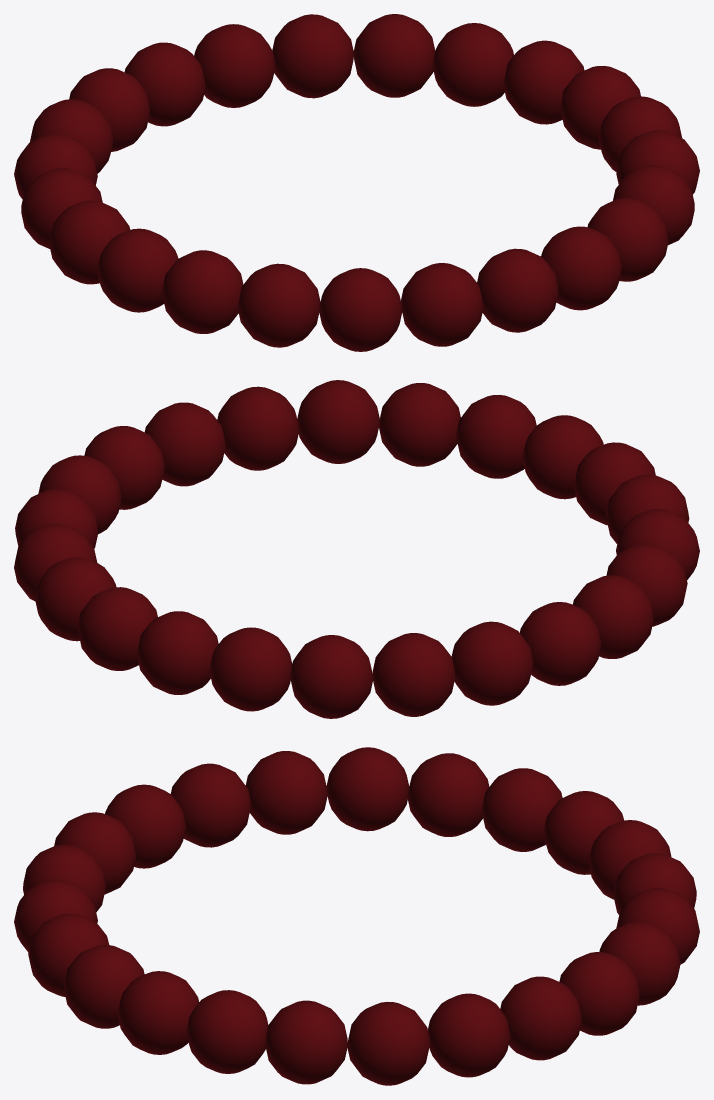
3 views of the same model, one above another, from view 1: azimuth 30°, elevation 25°; view 2: azimuth 150°, elevation 25°; view 3: azimuth 270°, elevation 25° (orthographic).
Visible parts, largest first — view 1: Sphere_6; view 2: Sphere_6; view 3: Sphere_6.
Boxes of the visible parts, left/top/right/bottom form: Sphere_6: left=14, top=14, right=699, bottom=351; Sphere_6: left=14, top=380, right=699, bottom=718; Sphere_6: left=14, top=747, right=699, bottom=1085.
Bounding box in the file's own units: 59.06 × 59.07 × 7.24.
